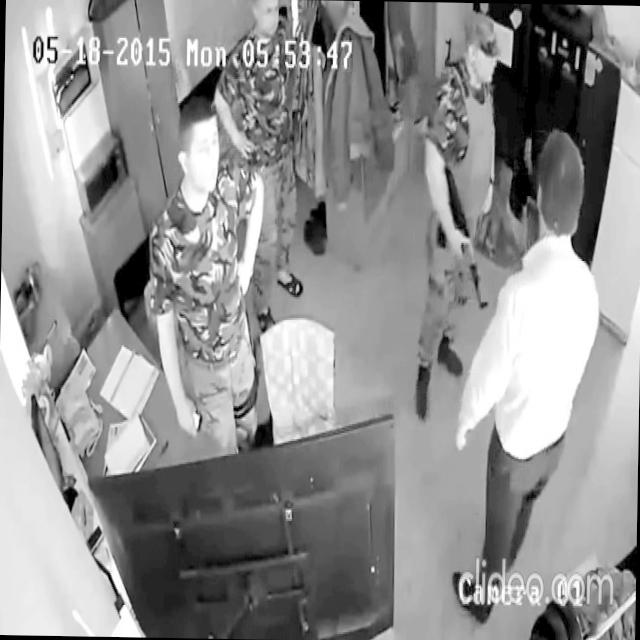gun: (433, 162, 492, 312), (442, 31, 452, 68)
person: (448, 126, 604, 626), (146, 92, 266, 456), (208, 0, 309, 332)
person with a gun: (413, 12, 503, 422)
